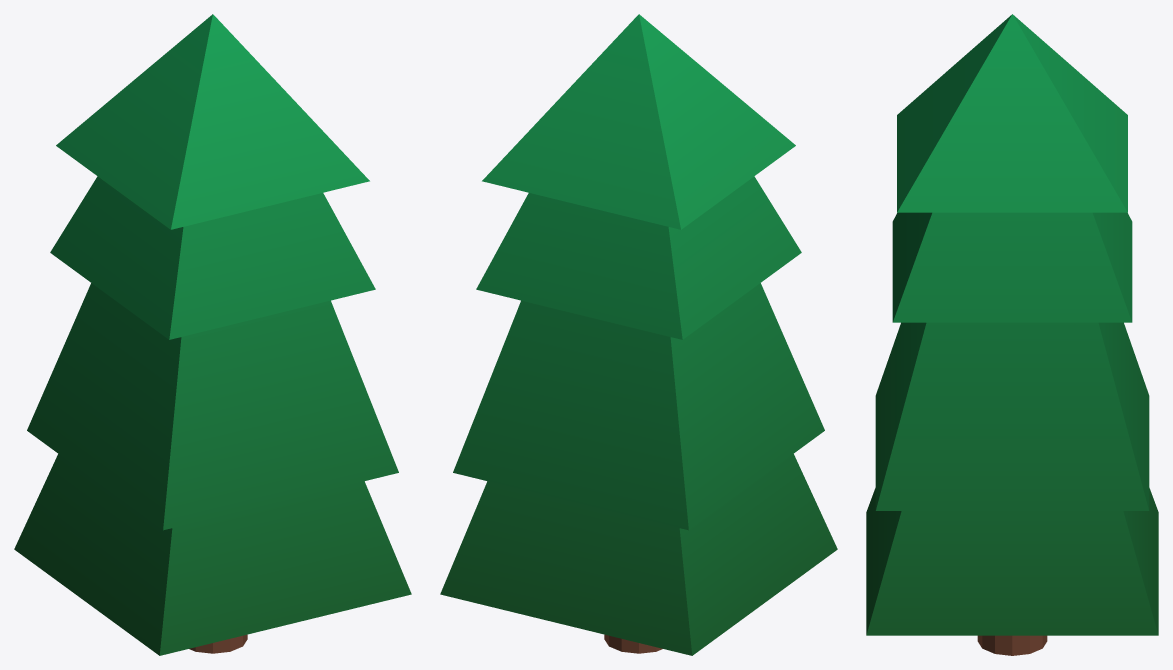
The model's file is Tree_17_gradient_green_vc.fbx.
3 views of the same model, side by side, from view 1: azimuth 30°, elevation 25°; view 2: azimuth 150°, elevation 25°; view 3: azimuth 270°, elevation 25° (orthographic).
Visible parts, largest first — view 1: Tree_17_gradient_green_vc; view 2: Tree_17_gradient_green_vc; view 3: Tree_17_gradient_green_vc.
Boxes of the visible parts, x1,y1,x2,y2 form: Tree_17_gradient_green_vc: [14, 14, 411, 655]; Tree_17_gradient_green_vc: [440, 14, 837, 655]; Tree_17_gradient_green_vc: [866, 14, 1158, 655].
Size of the model in its own units: 65.5 by 155 by 65.5.
